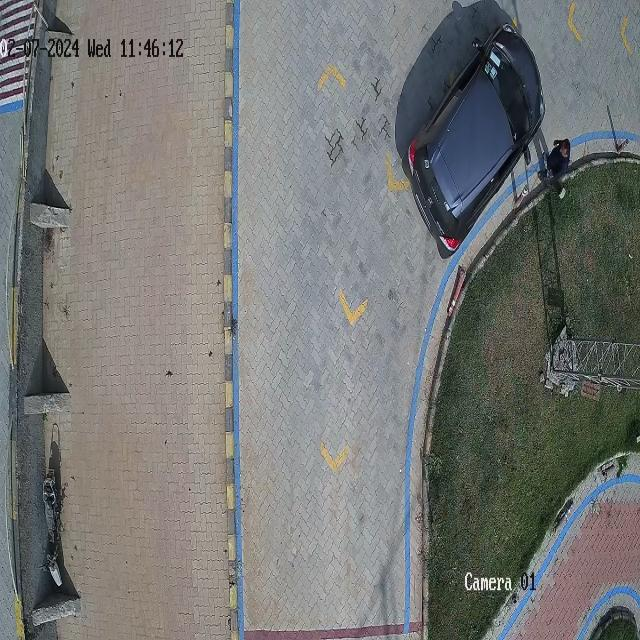car: (408, 27, 544, 258)
